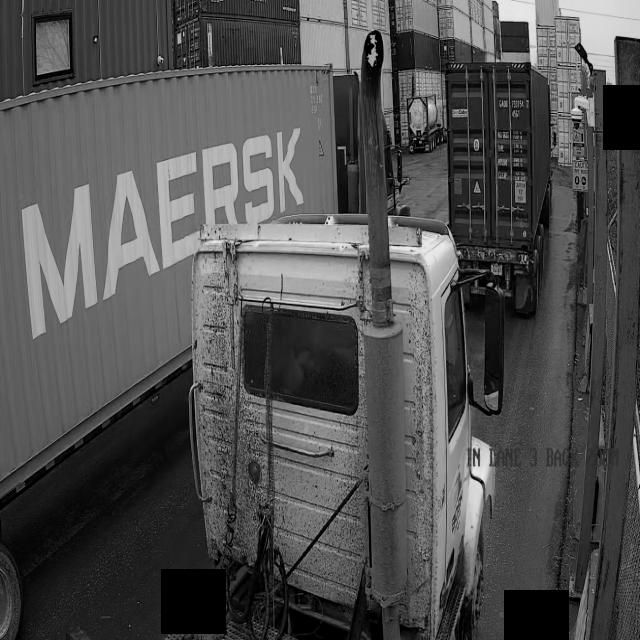container_company_logo: (22, 105, 304, 237)
truck_cabin: (188, 213, 529, 640)
truck_with_container: (0, 65, 366, 499), (444, 63, 552, 314)
